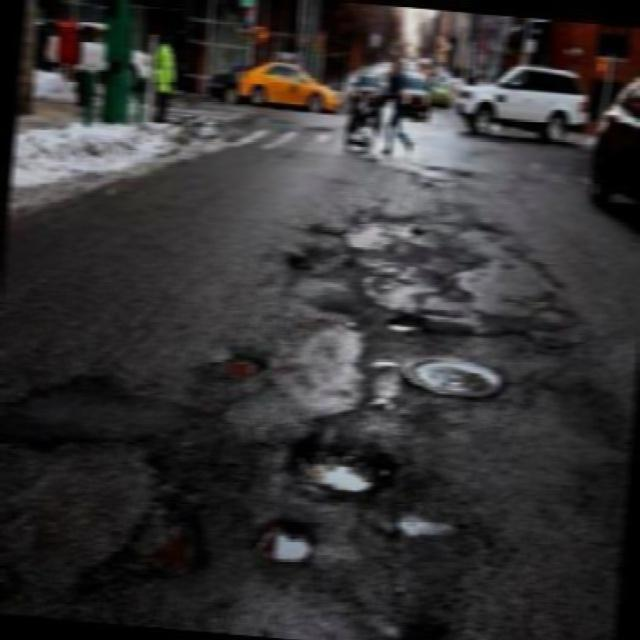Pothole: (58, 446, 212, 608), (284, 432, 400, 506), (251, 516, 316, 570), (188, 351, 266, 394), (338, 213, 409, 254), (396, 506, 462, 546), (287, 246, 353, 285), (389, 615, 453, 640), (382, 312, 430, 342)
